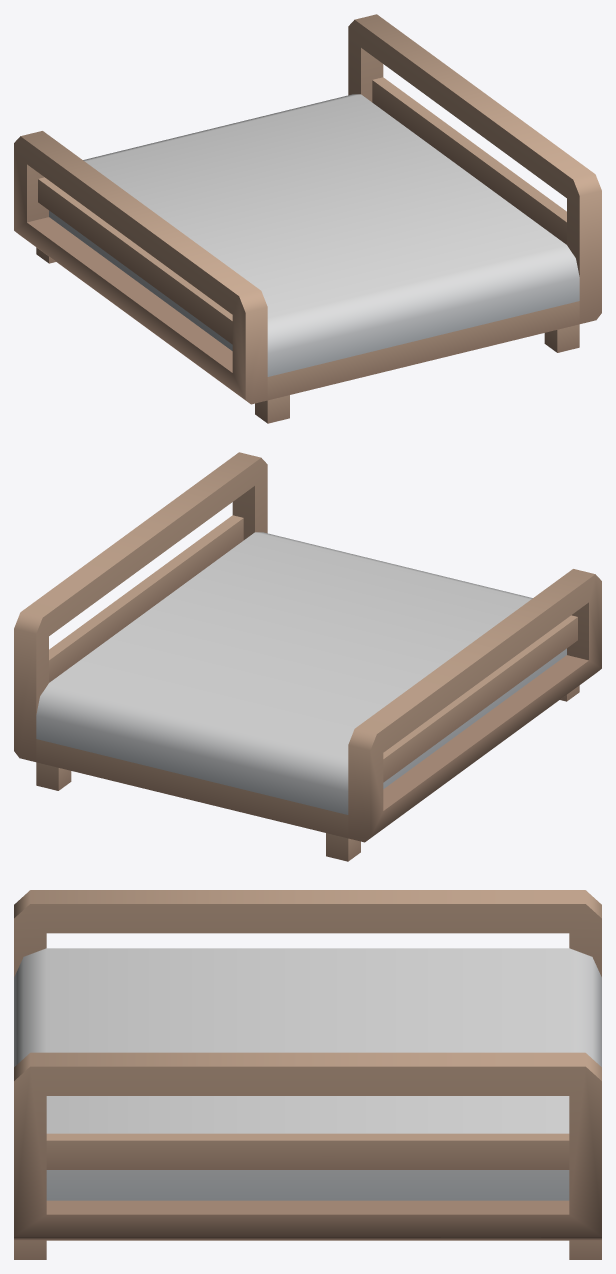
File: bed-frame-double.glb
3 renders of one model, top to bottom at view 1: azimuth 30°, elevation 25°; view 2: azimuth 150°, elevation 25°; view 3: azimuth 270°, elevation 25°, orthographic. The views are drawn at different scales.
Visible parts, largest first — view 1: bed-frame-double; view 2: bed-frame-double; view 3: bed-frame-double.
Part boxes in pixels (box(x1,y1,x2,y2)): bed-frame-double: box(14, 14, 601, 423); bed-frame-double: box(14, 452, 601, 861); bed-frame-double: box(14, 890, 601, 1259).
Size of the model in its own units: 1.6 by 0.7 by 1.8.
